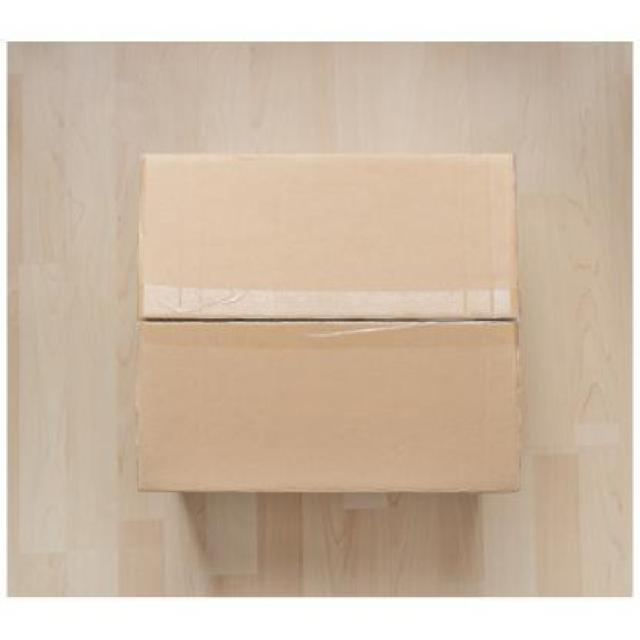cardboxes: (140, 157, 515, 486)
